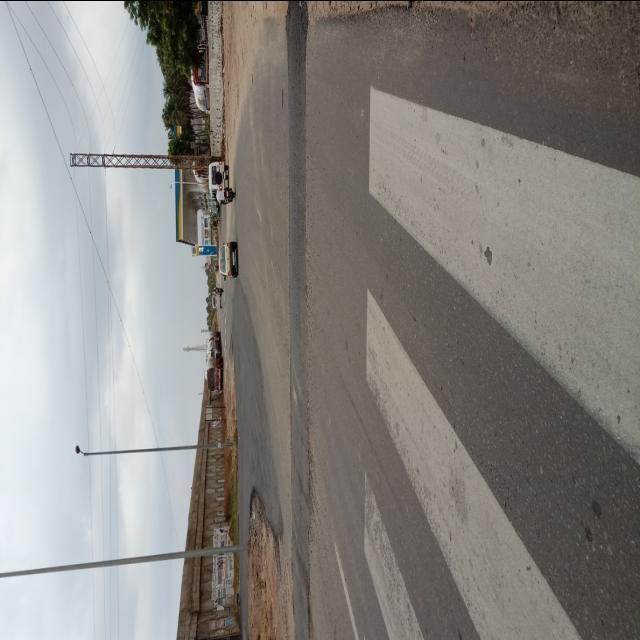speedbreaker: (280, 0, 316, 640)
